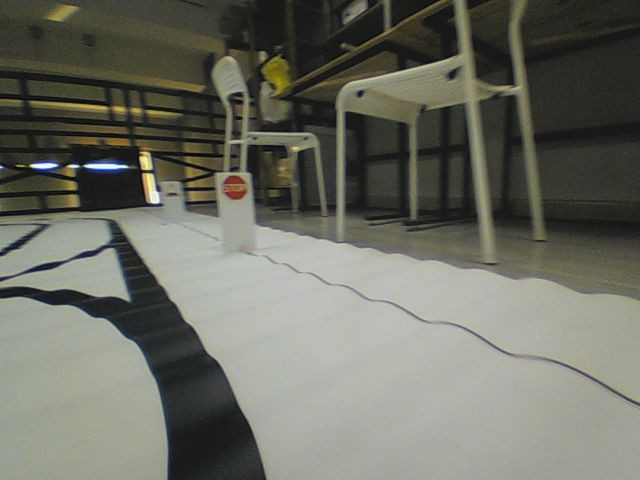Stop: (221, 175, 247, 200)
